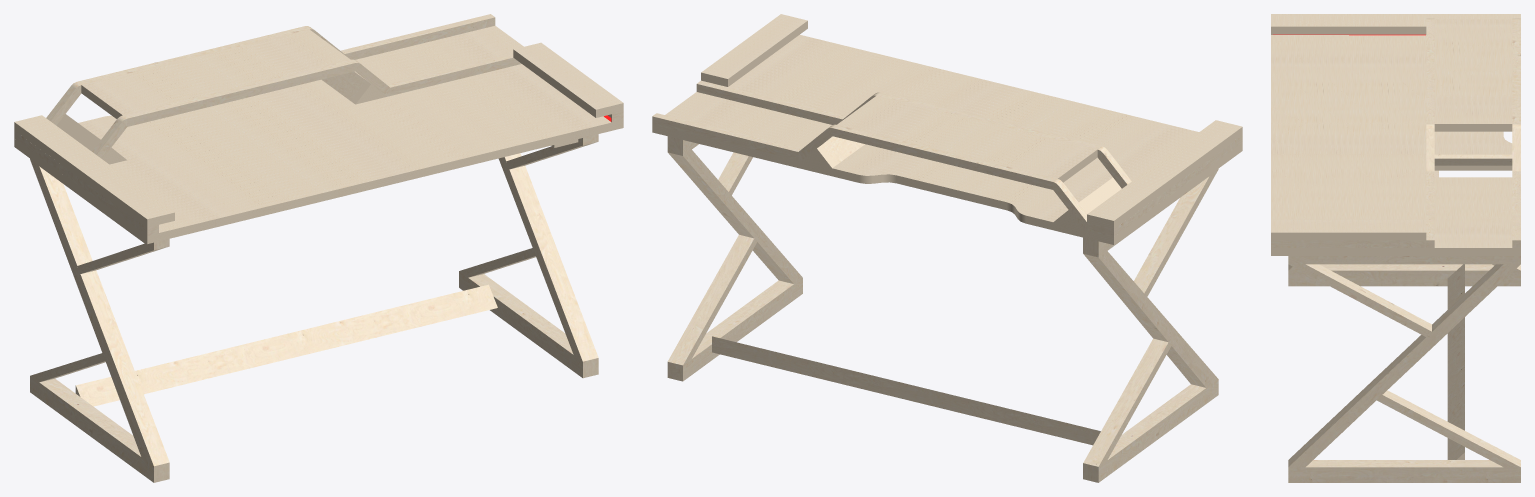
File: GamingDesk.glb
The picture shows the model from 3 angles, left to right: view 1: azimuth 30°, elevation 25°; view 2: azimuth 150°, elevation 25°; view 3: azimuth 270°, elevation 25°; orthographic projection. The views are drawn at different scales.
Visible parts, largest first — view 1: object_3, object_2, object_4; view 2: object_3, object_2, object_4; view 3: object_3, object_2, object_4.
Boxes of the visible parts, x1,y1,x2,y2 form: object_3: (14,25,623,244); object_2: (14,14,623,482); object_4: (322,71,366,100); object_3: (652,14,1242,244); object_2: (652,80,1242,482); object_4: (821,136,864,164); object_3: (1271,14,1520,255); object_2: (1271,18,1520,482); object_4: (1434,154,1512,165).
Size of the model in its own units: 1.52 by 0.9144 by 0.7366.
3 materials, 2 textured.
